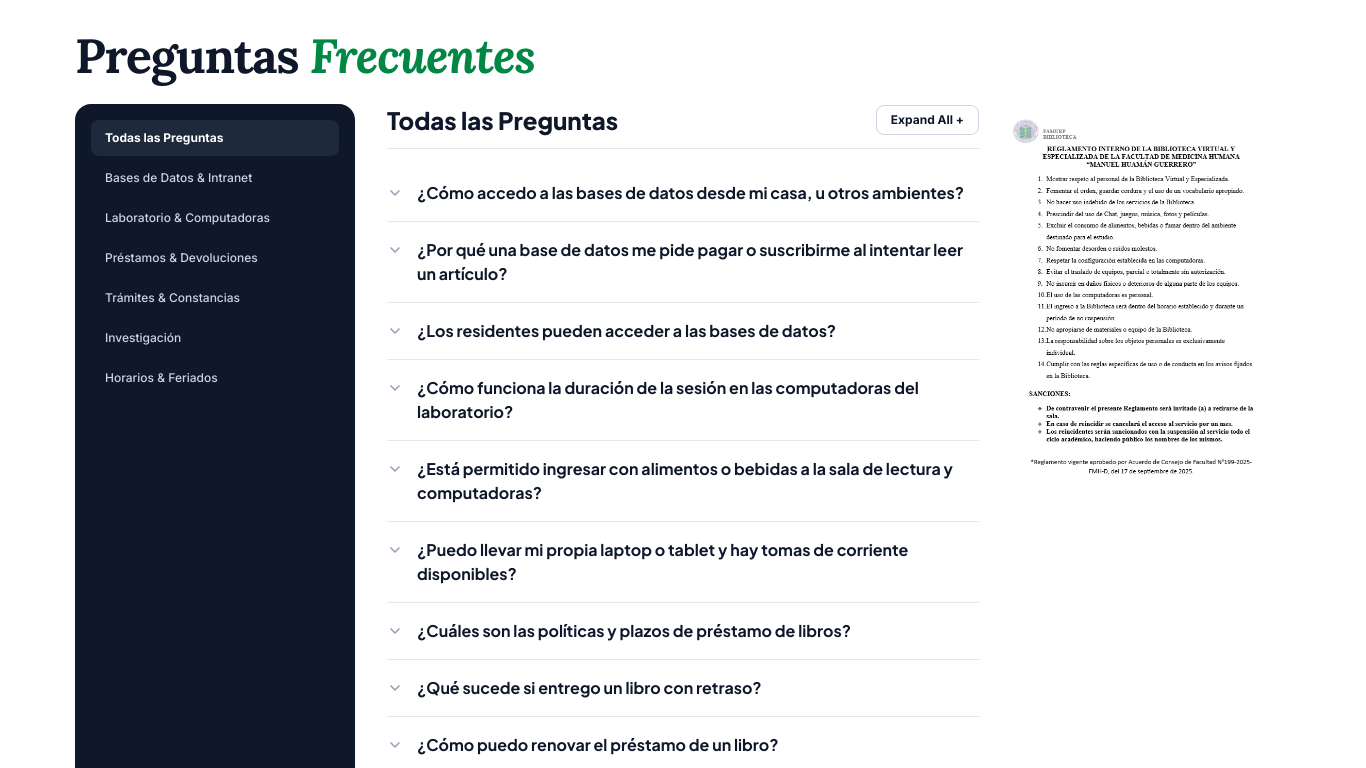
Test: FaqPage and FAQ Data › opens zoom view when clicking on regulation image and closes on close button
Later steps or results of the test are not shown.
Click the picture with alt text "Reglamento Interno de la Biblioteca Virtual y Especializada FAMURP" at (1151, 312), box [1011,112,1291,512]
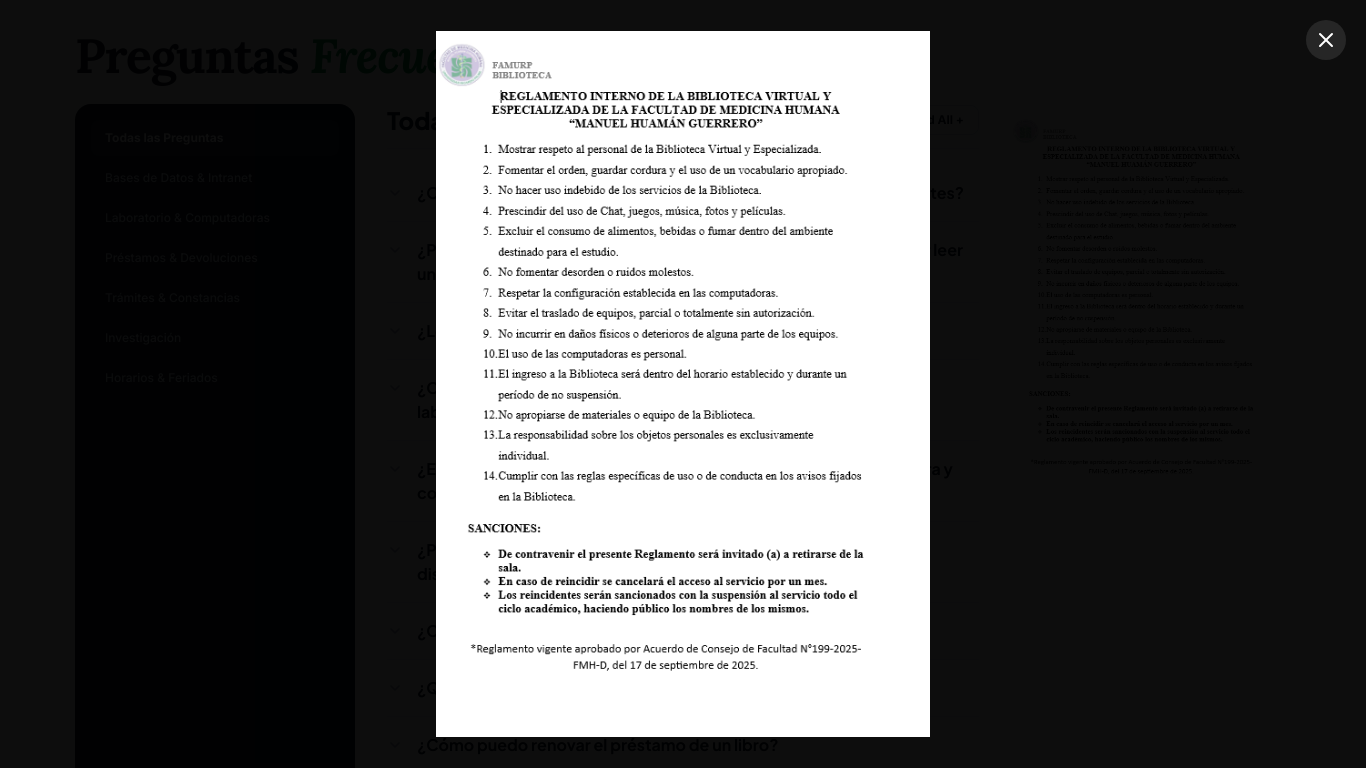
Expected: the dialog named "Ampliación del reglamento" is shown
